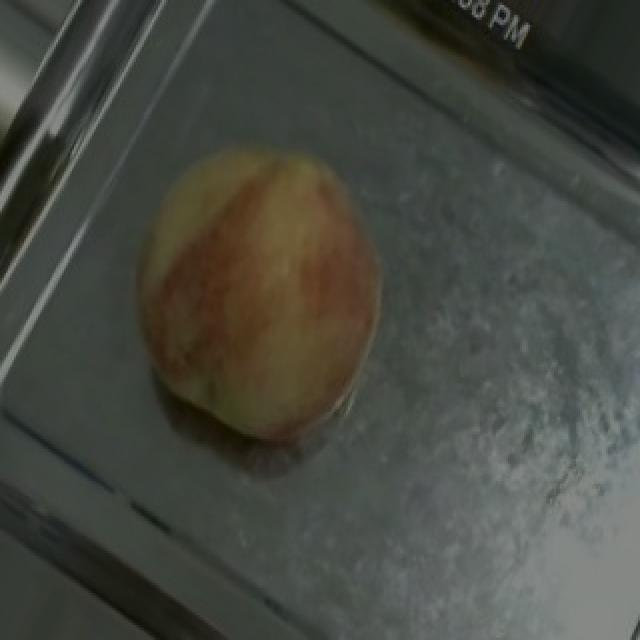Fruit: (86, 94, 430, 484)
